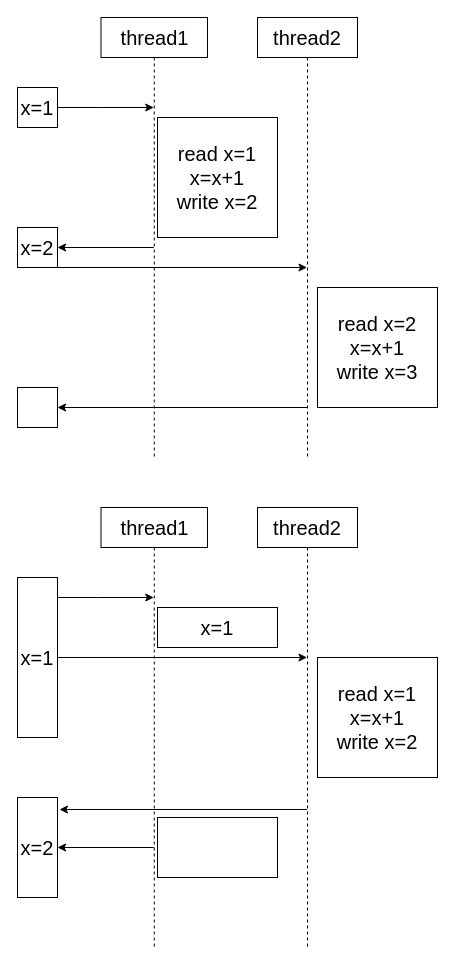
Image size: 455x965. Some labels were removed from this diagram. The shapes that lost their labels are listed below. From the top down, each one's box as (x1, y1, x2, y2) in pixels, then its label:
(16, 386, 58, 428): x=3
(156, 816, 278, 878): x=x+1 write x=2
